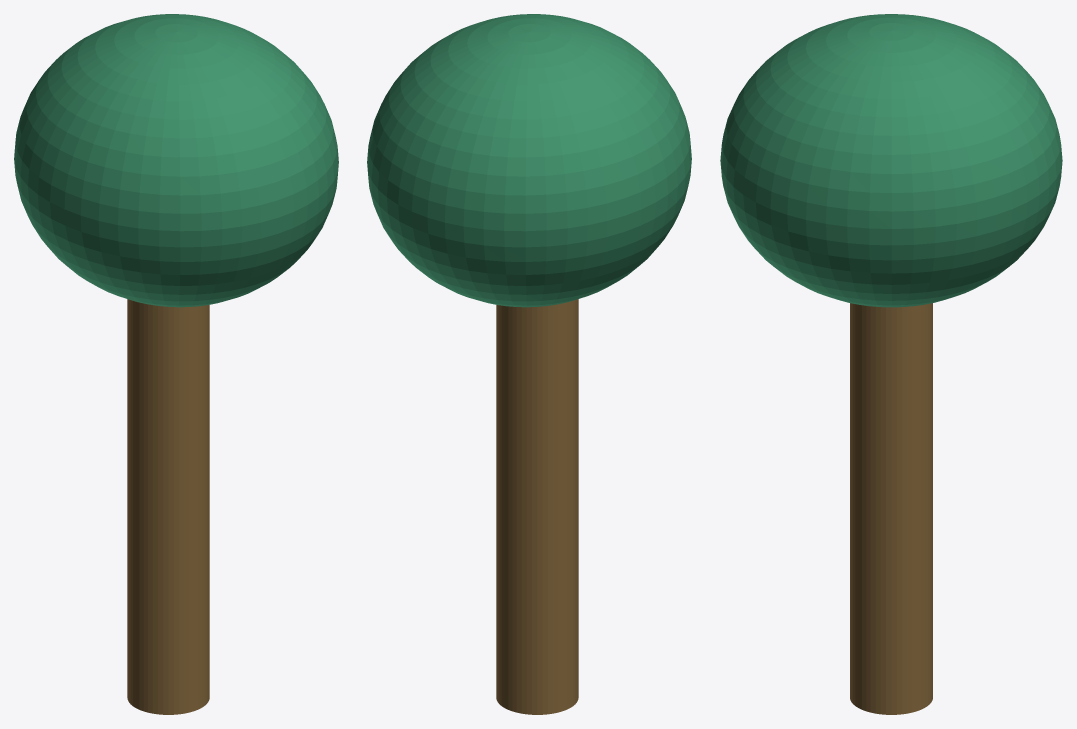
File: Albero_Tondo.glb
3 views of the same model, side by side, from view 1: azimuth 30°, elevation 25°; view 2: azimuth 150°, elevation 25°; view 3: azimuth 270°, elevation 25° (orthographic).
Visible parts, largest first — view 1: Mesh_Mesh_head_geo.001_lambert2SG.001; view 2: Mesh_Mesh_head_geo.001_lambert2SG.001; view 3: Mesh_Mesh_head_geo.001_lambert2SG.001.
Part boxes in pixels (<box>): Mesh_Mesh_head_geo.001_lambert2SG.001: <box>14,14,338,714</box>; Mesh_Mesh_head_geo.001_lambert2SG.001: <box>367,14,691,714</box>; Mesh_Mesh_head_geo.001_lambert2SG.001: <box>720,14,1062,714</box>.
Bounding box in the file's own units: 0.035 × 0.08 × 0.037.
